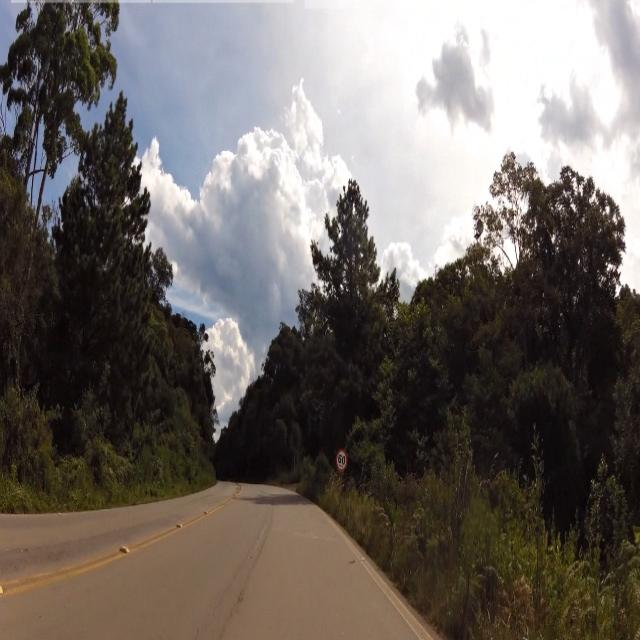R-19: (334, 447, 349, 477)
